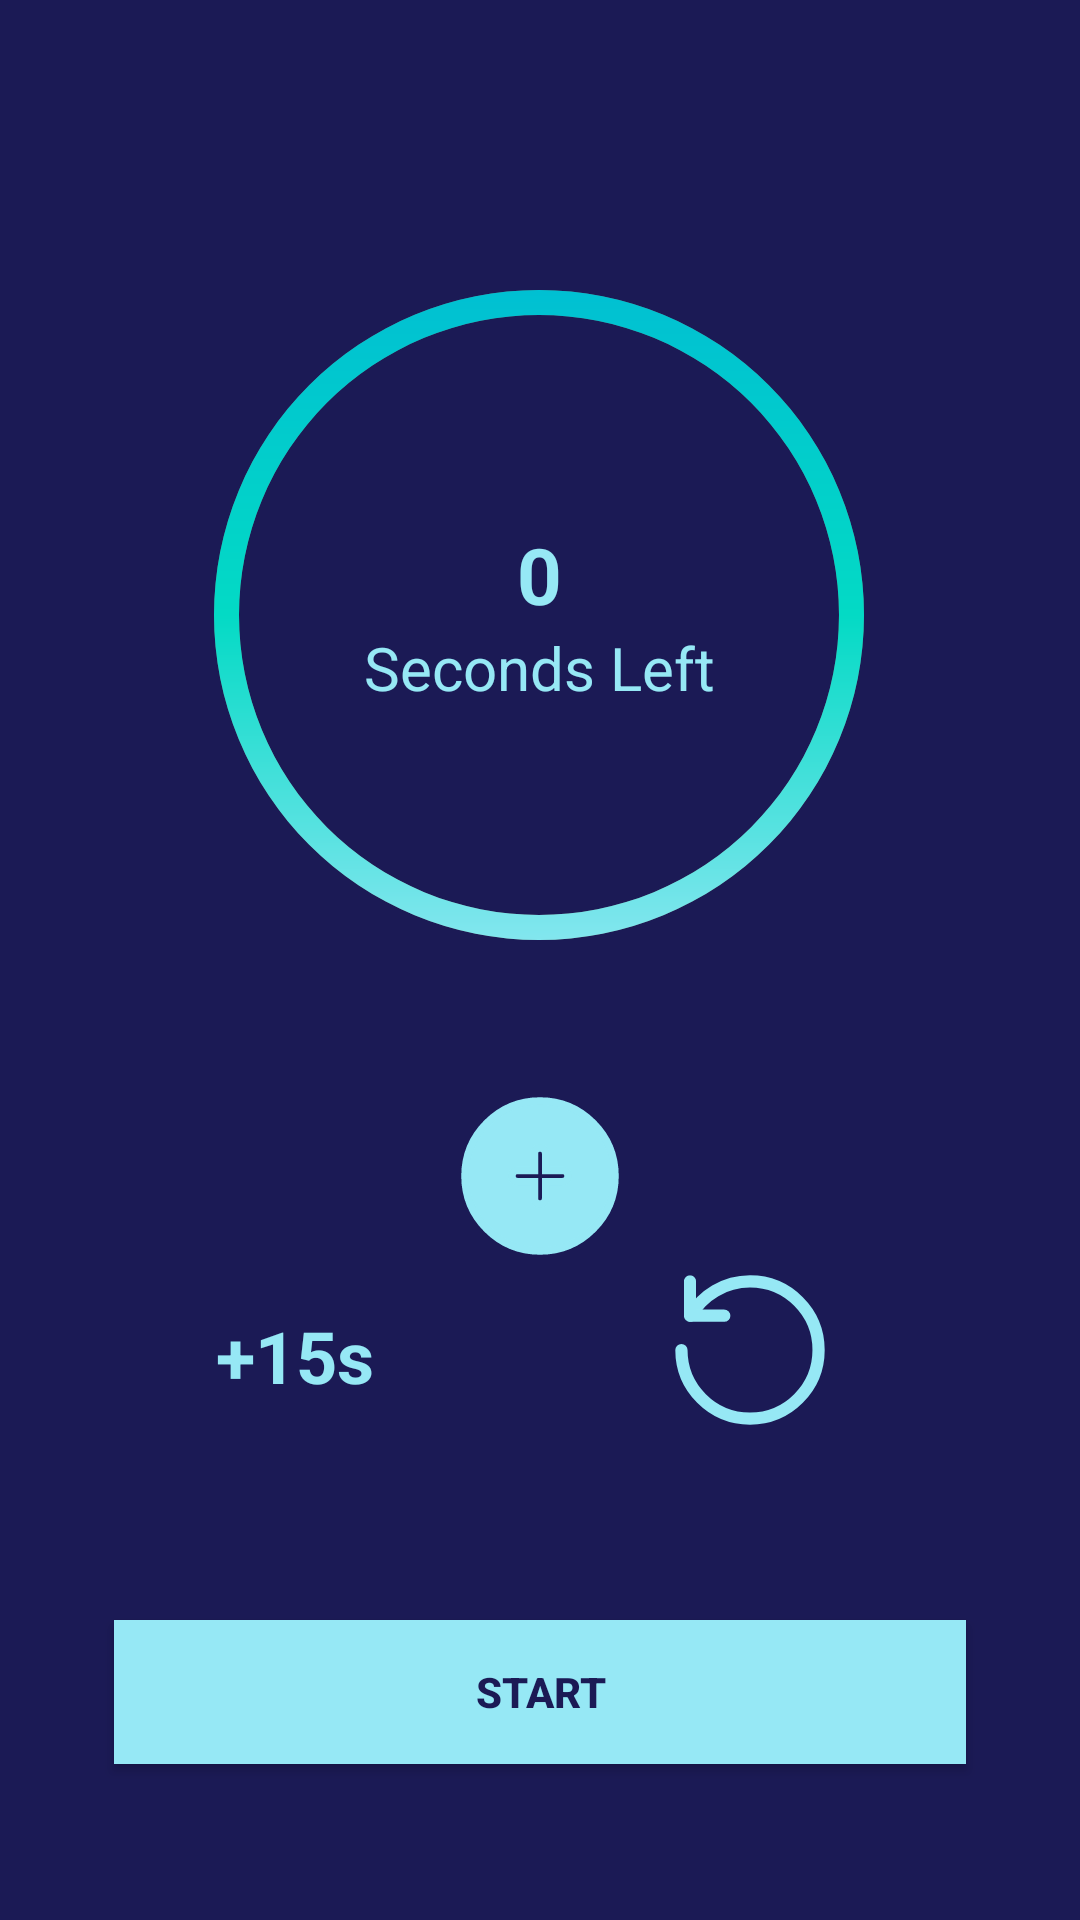

Where to tap for icons on this 1080*1920 app screen, as (x=x, y=y):
Add: (x=540, y=1176)
reset: (x=750, y=1350)
